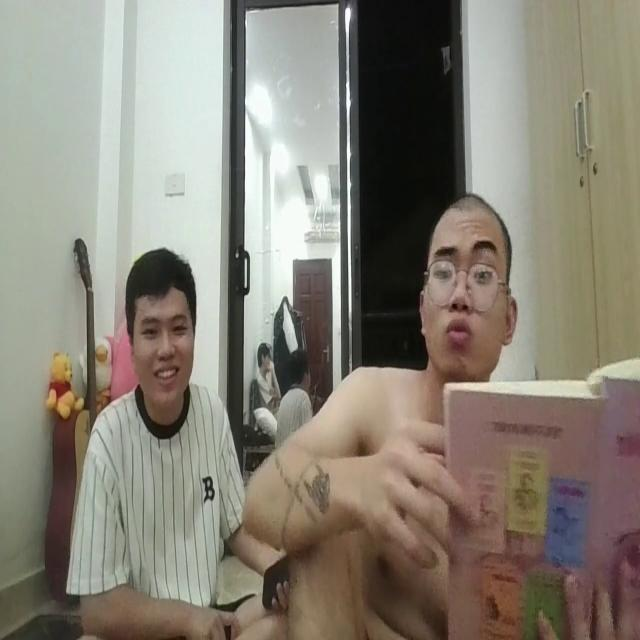book: (431, 343, 640, 640)
extra_person: (60, 237, 249, 640)
student: (242, 190, 518, 640)
